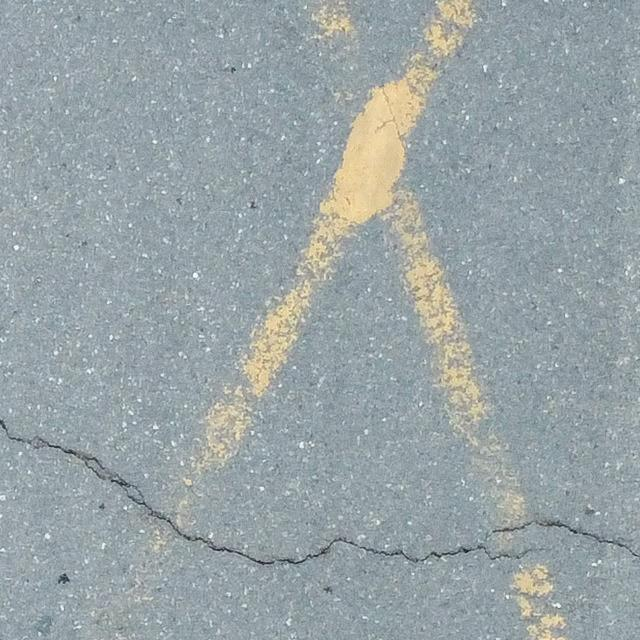TransverseCrack: (1, 417, 640, 568)
